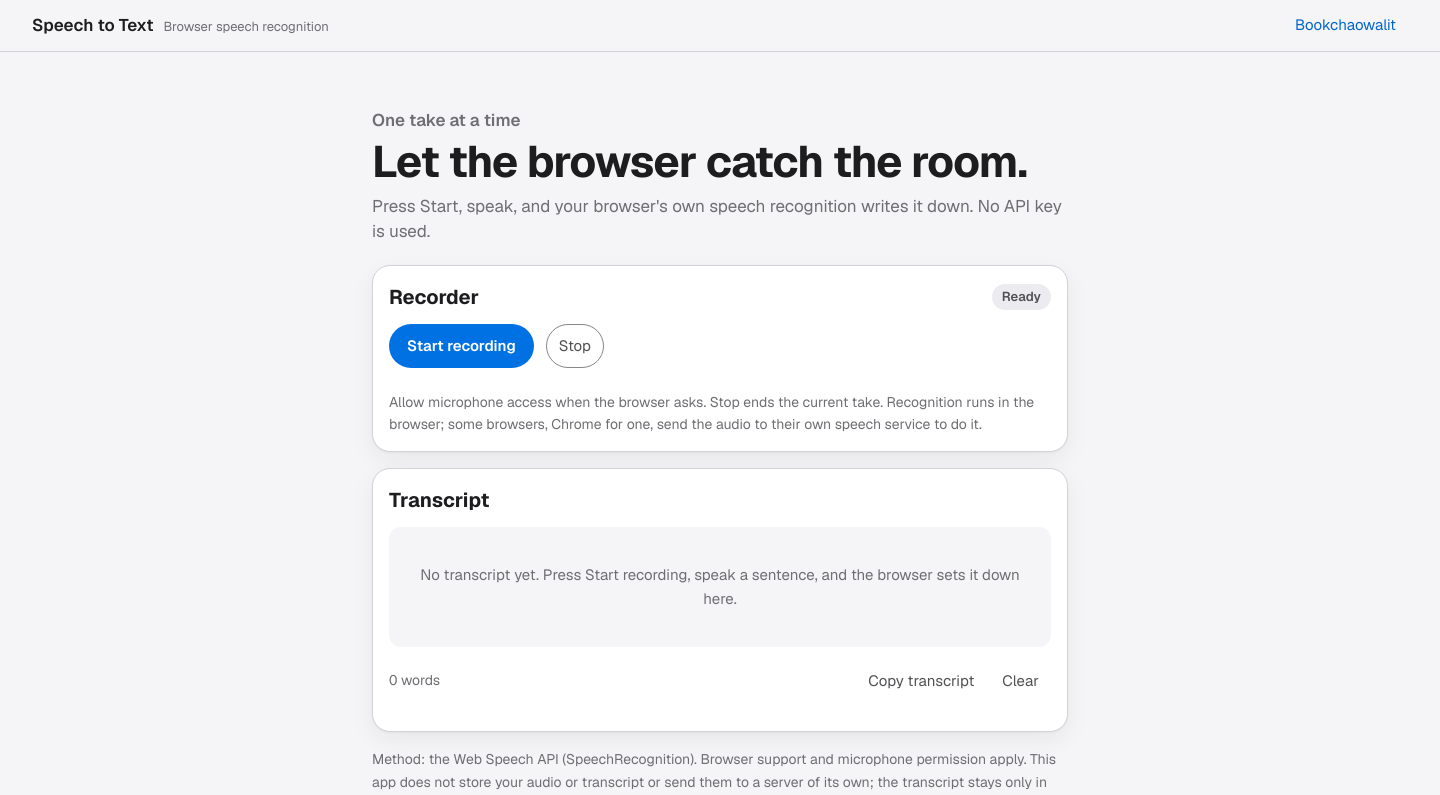
Test case: recorder › records, shows the transcript, stops, copies and clears back to the empty state
Later steps or results of the test are not shown.
Click the button "Start recording" at (461, 346), box top-left (389, 324), bottom-right (534, 368)
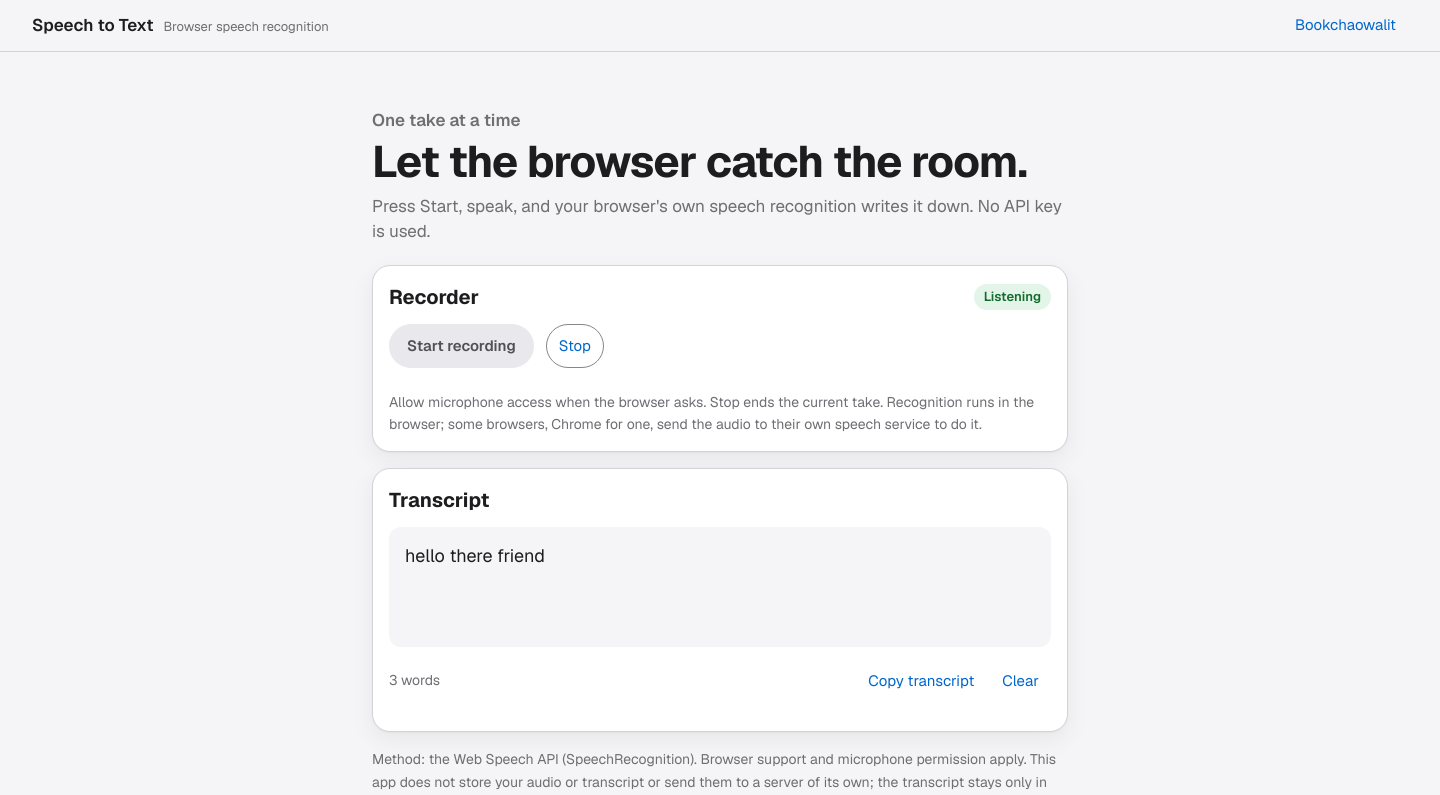
Expected: the text "Listening" is shown, top-left (974, 284), bottom-right (1051, 310)
Expected: the text with class "st-paper" reads "hello there friend", top-left (405, 544), bottom-right (545, 567)
Expected: the text "3 words" is shown, top-left (389, 670), bottom-right (440, 692)
Click the button "Stop" at (575, 346), box top-left (546, 324), bottom-right (604, 368)
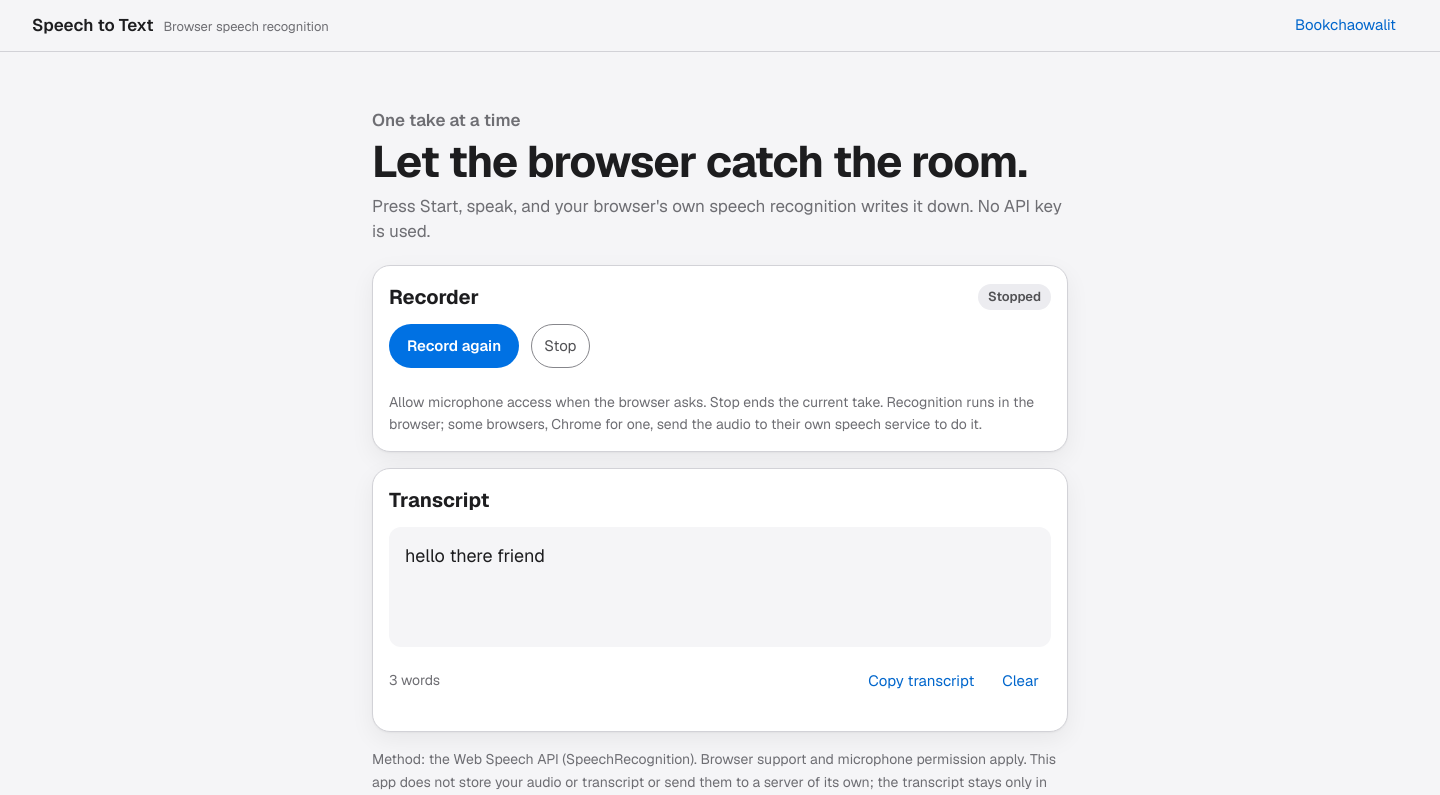
Expected: the button "Record again" is shown, top-left (389, 324), bottom-right (519, 368)
Click the button "Copy transcript" at (921, 681), box top-left (856, 659), bottom-right (986, 703)
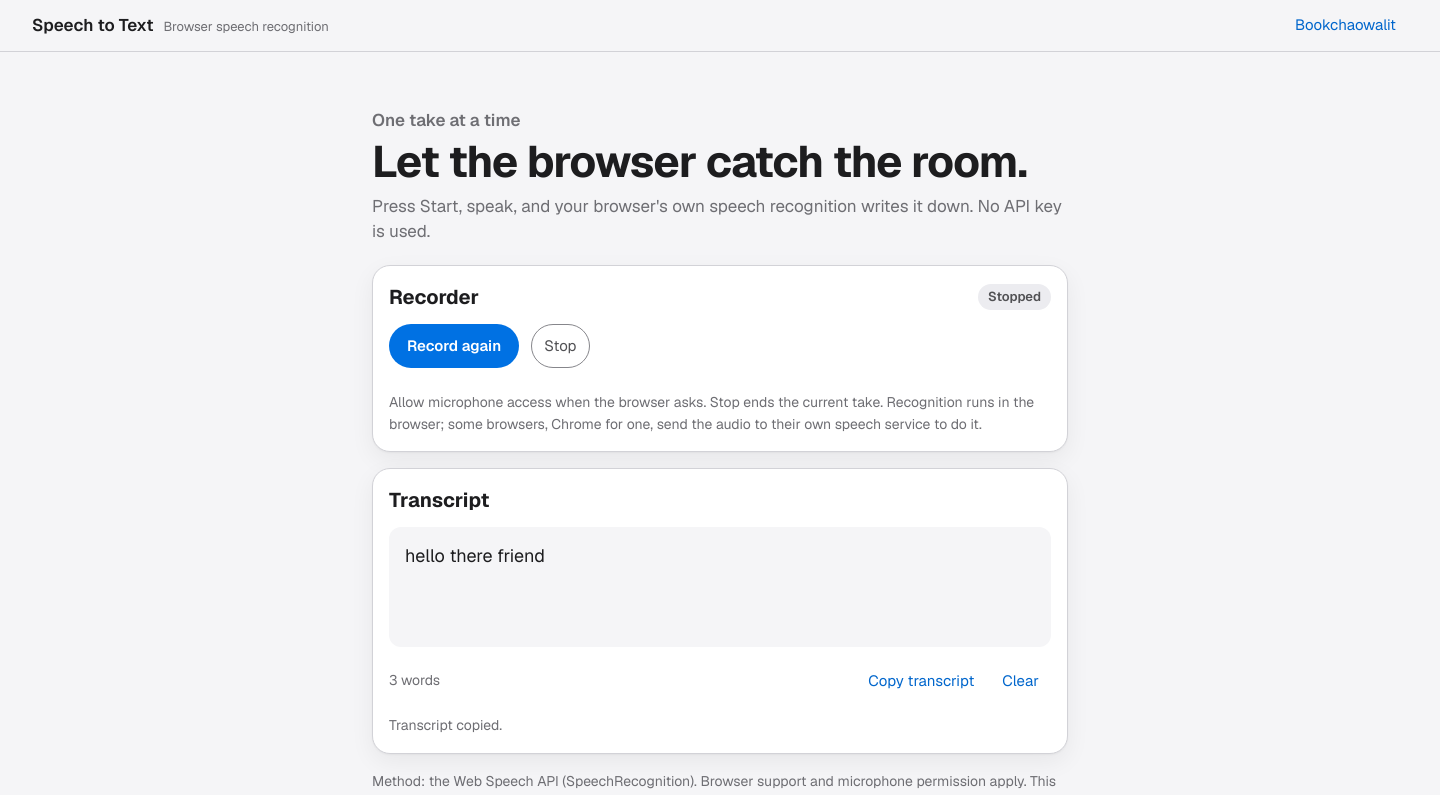
Expected: the text "Transcript copied." is shown, top-left (389, 716), bottom-right (502, 734)
Click the button "Copy transcript" at (921, 681), box top-left (856, 659), bottom-right (986, 703)
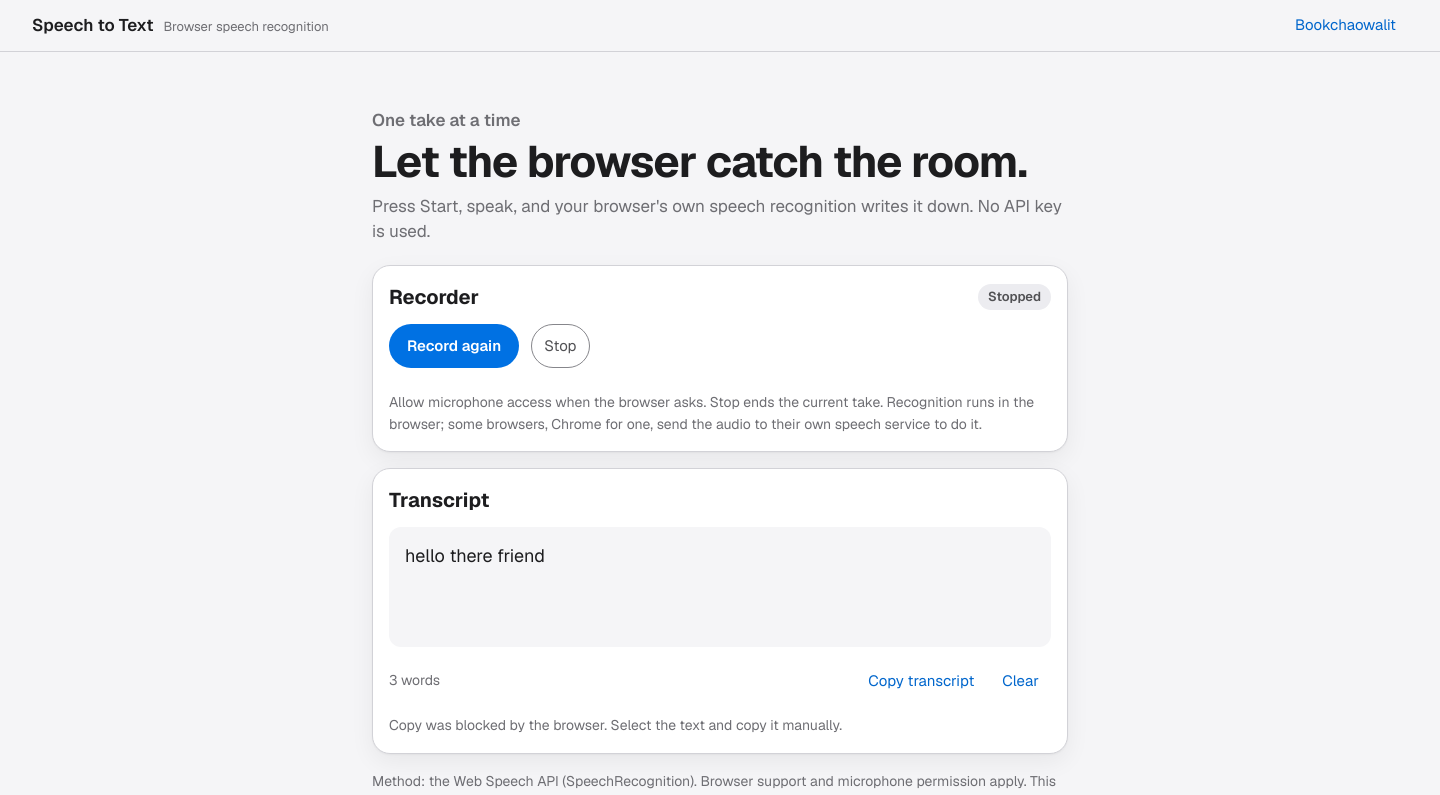
Expected: the text "Copy was blocked" is shown, top-left (389, 716), bottom-right (842, 734)
Click the button "Clear" at (1021, 681), box top-left (990, 659), bottom-right (1051, 703)
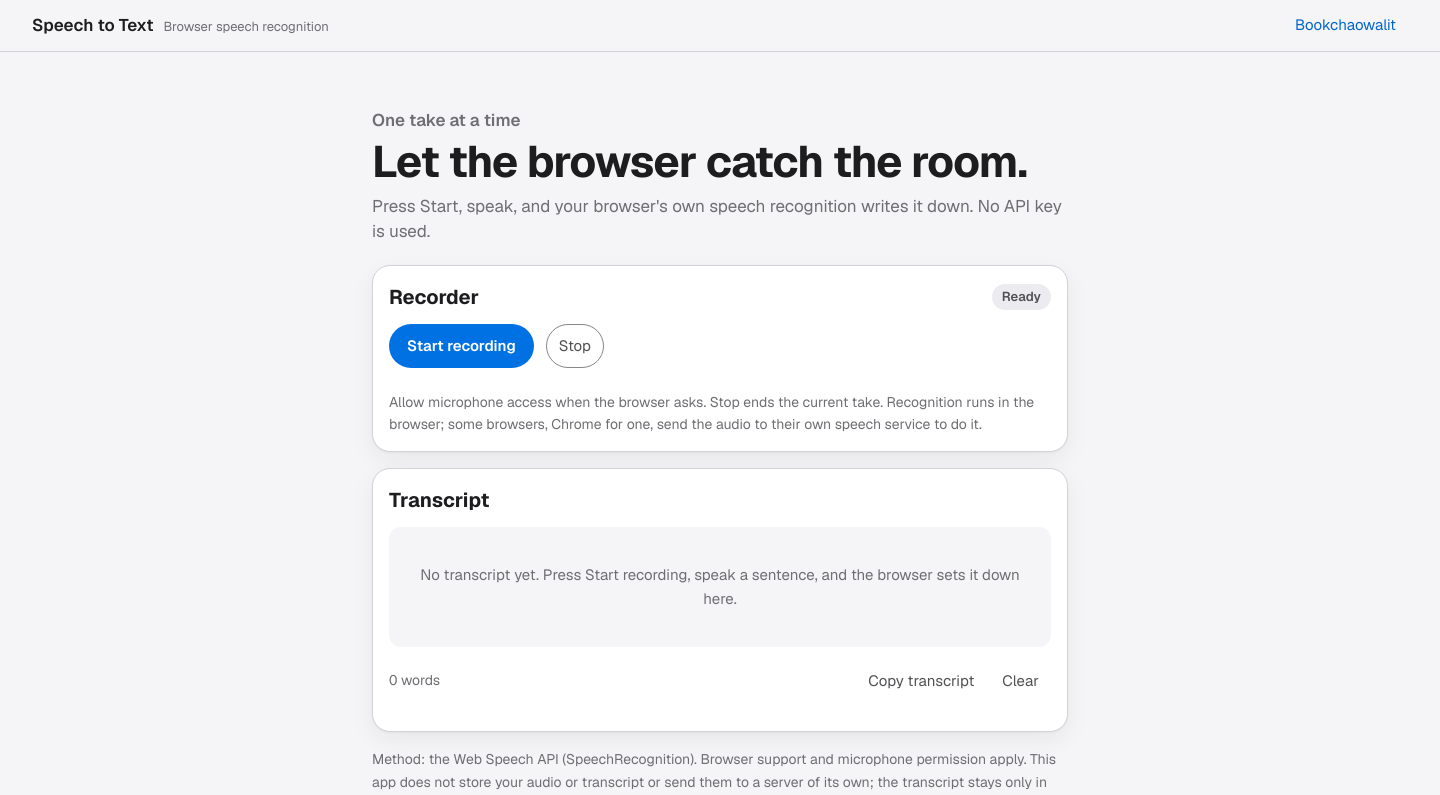
Expected: the text with class "st-paper" shows "No transcript yet", top-left (420, 564), bottom-right (1024, 608)
Expected: the text "Ready" is shown, top-left (992, 284), bottom-right (1051, 310)
